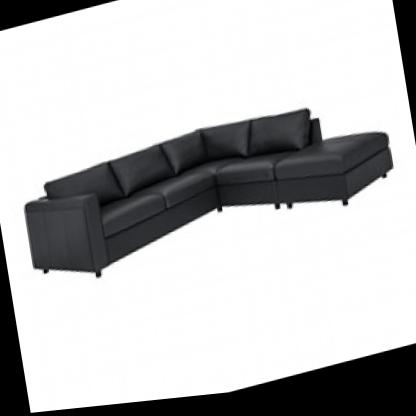Sofa: (8, 77, 403, 308)
